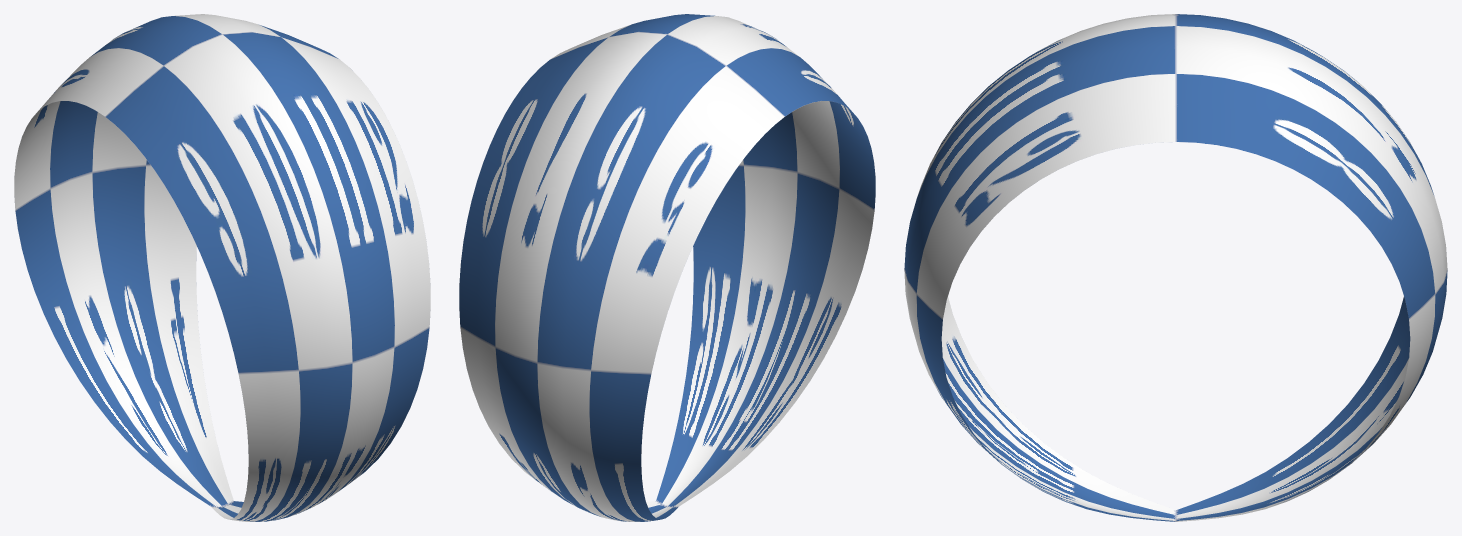
The model's file is Rui_Ring2.fbx.
The picture shows the model from 3 angles, left to right: view 1: azimuth 30°, elevation 25°; view 2: azimuth 150°, elevation 25°; view 3: azimuth 270°, elevation 25°; orthographic projection. The views are drawn at different scales.
Visible parts, largest first — view 1: SM_e_Plc_P1007_Ring002; view 2: SM_e_Plc_P1007_Ring002; view 3: SM_e_Plc_P1007_Ring002.
Part boxes in pixels (bbox=[...]): SM_e_Plc_P1007_Ring002: bbox=[14, 14, 430, 521]; SM_e_Plc_P1007_Ring002: bbox=[459, 14, 875, 521]; SM_e_Plc_P1007_Ring002: bbox=[904, 14, 1447, 521].
Size of the model in its own units: 51.08 by 98.18 by 98.03.
